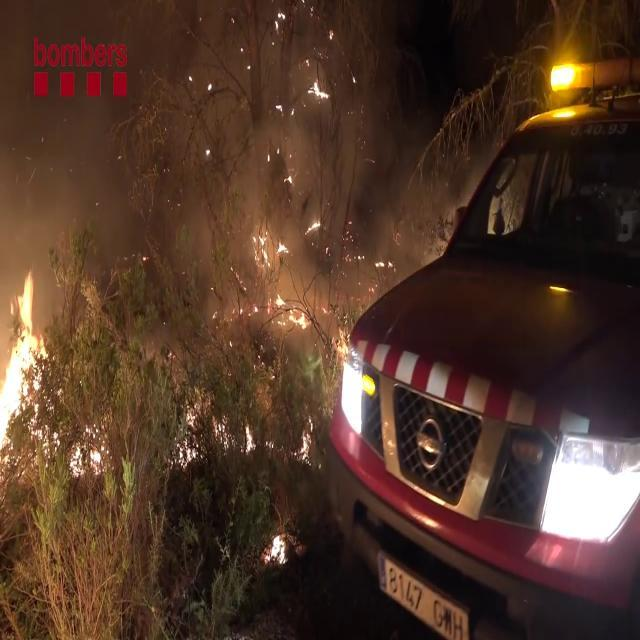Fire: (0, 265, 49, 487)
